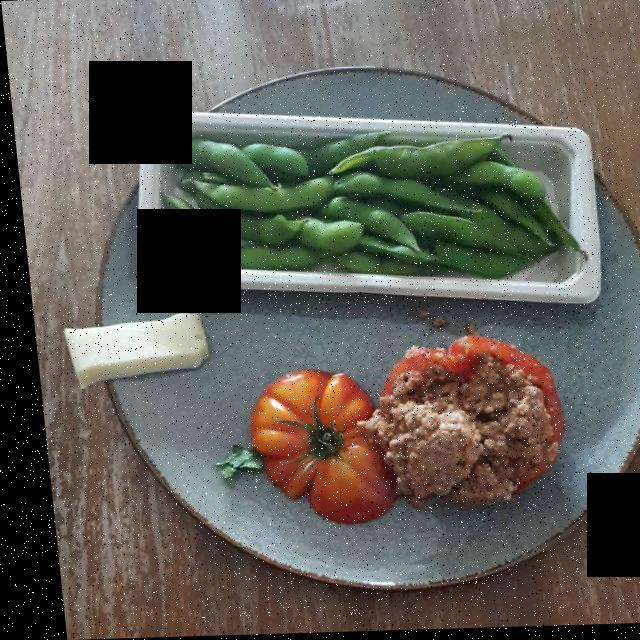cheese-for-raclette: (44, 311, 210, 391)
tomato-raw: (227, 334, 557, 540)
